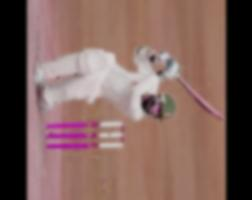batsman: (28, 35, 226, 134)
